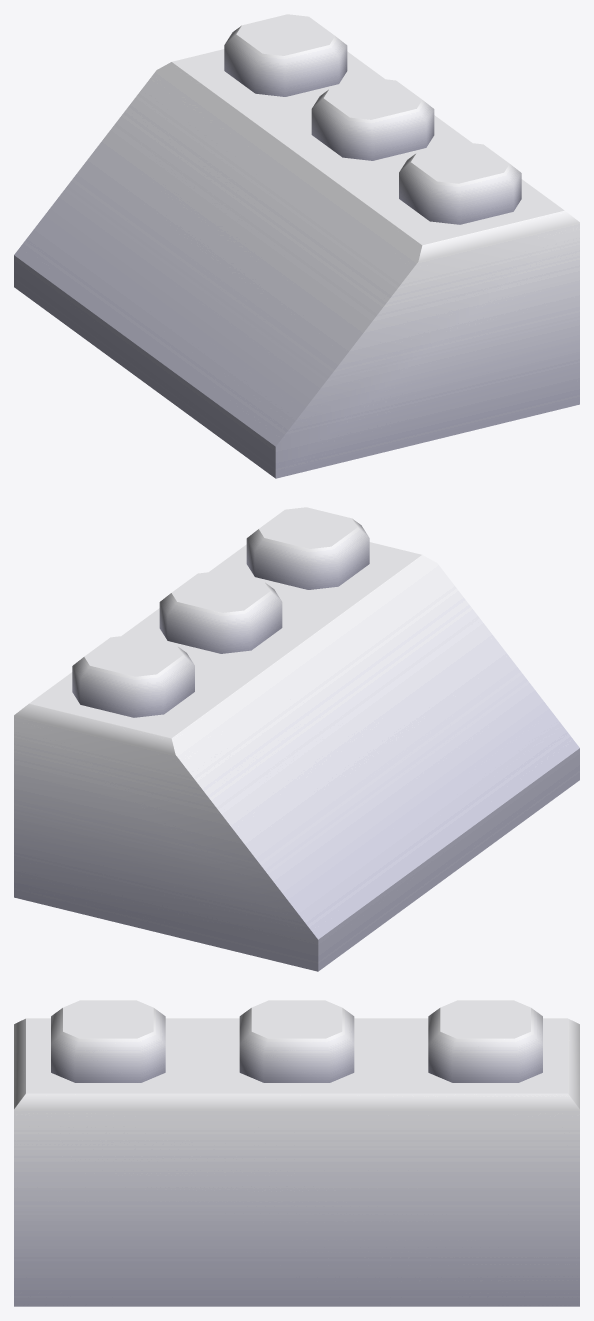
Rendered from brick-kit--bevel-hq-brick-slope-2x3.glb.
3 views of the same model, one above another, from view 1: azimuth 30°, elevation 25°; view 2: azimuth 150°, elevation 25°; view 3: azimuth 270°, elevation 25° (orthographic). The views are drawn at different scales.
Visible parts, largest first — view 1: bevel-hq-brick-slope-2x3; view 2: bevel-hq-brick-slope-2x3; view 3: bevel-hq-brick-slope-2x3.
Part boxes in pixels (bbox=[...]): bevel-hq-brick-slope-2x3: bbox=[14, 14, 579, 478]; bevel-hq-brick-slope-2x3: bbox=[14, 507, 579, 971]; bevel-hq-brick-slope-2x3: bbox=[14, 1000, 579, 1306].
Size of the model in its own units: 0.159 by 0.114 by 0.237.
1 material, 1 textured.
